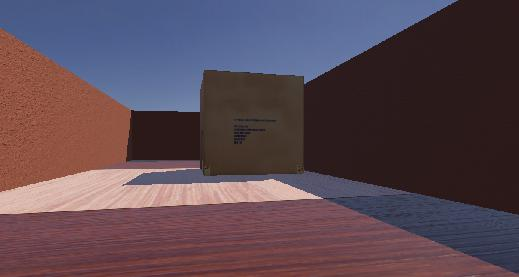CardboardBox: (183, 56, 318, 181)
